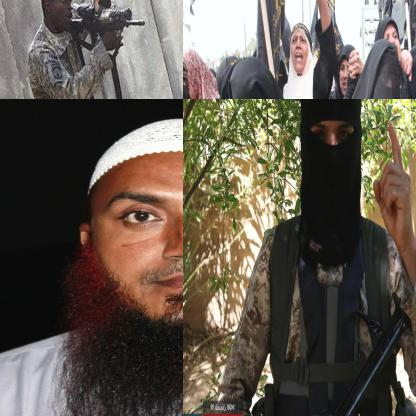rifle: (294, 292, 414, 415), (72, 4, 148, 49)
